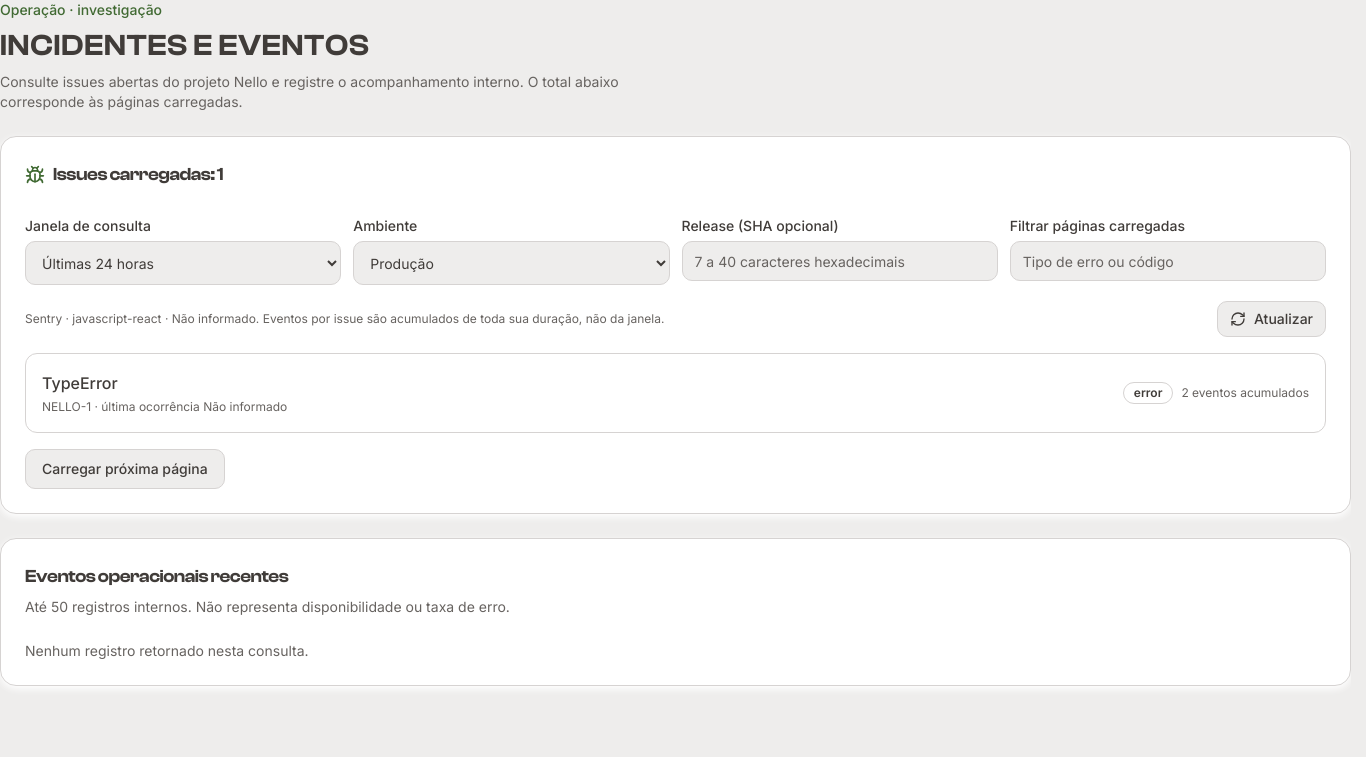
Test: AdminBugReportsPage › deduplicates overlapping pages and preserves them when the next source request fails
Click the button "Carregar próxima página": {"x": 125, "y": 469} [25,449,225,489]
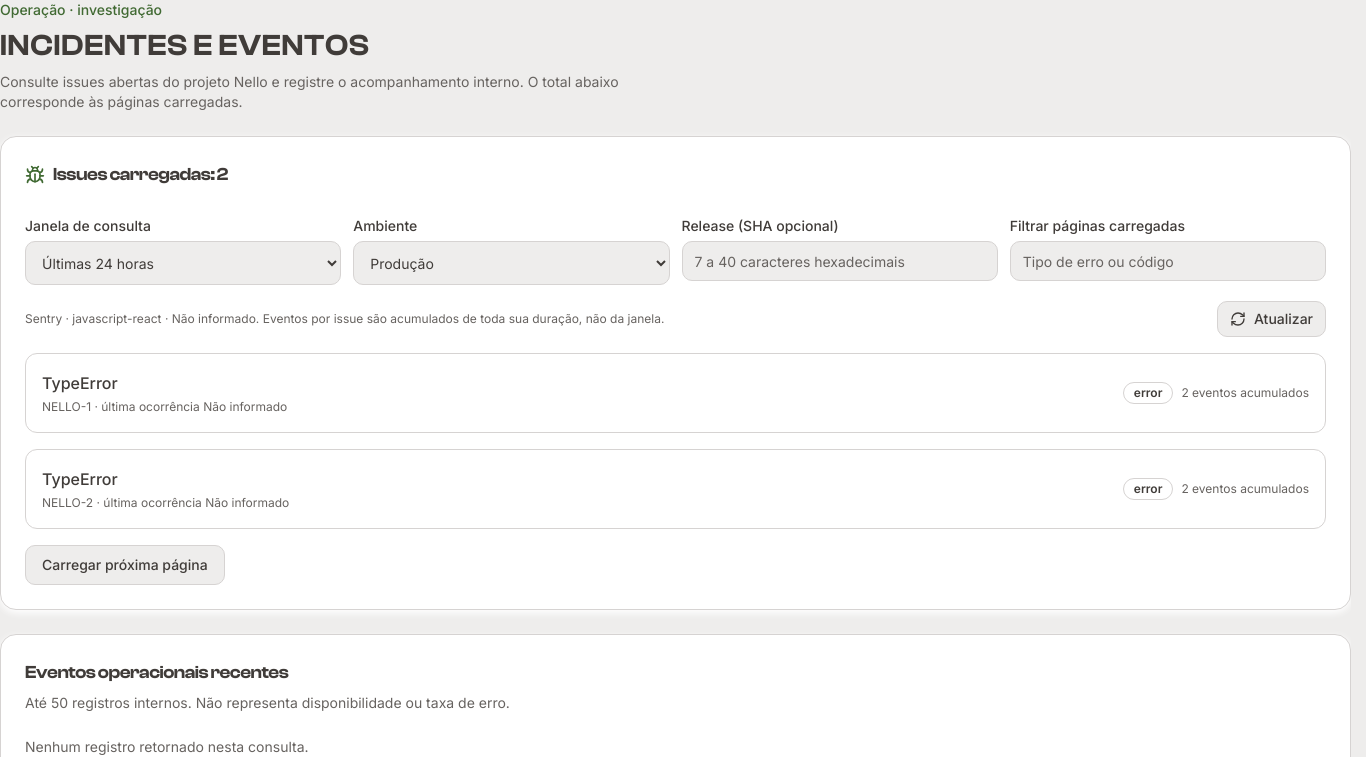
Result: the heading "Issues carregadas: 2" is shown at [25,164,228,185]
Click the button "Carregar próxima página": {"x": 125, "y": 565} [25,545,225,585]
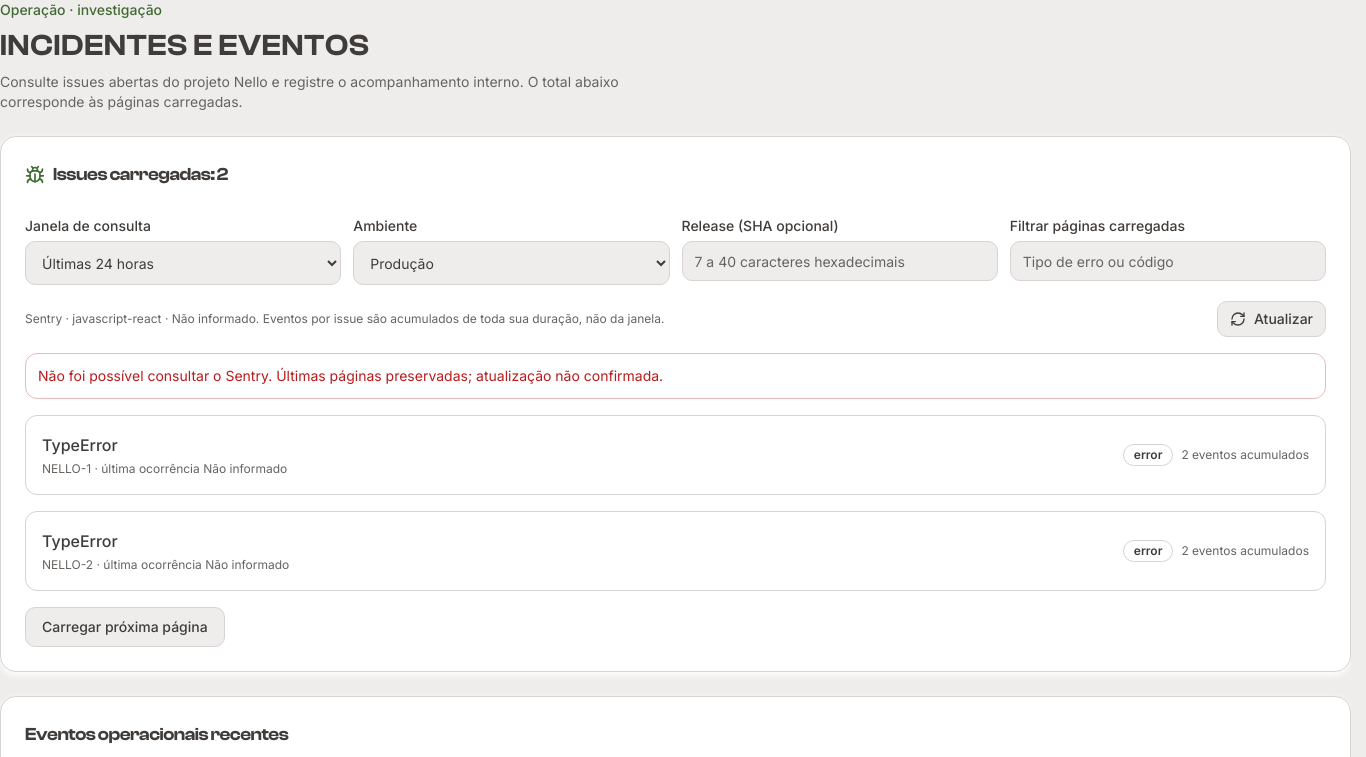
Result: the heading "Issues carregadas: 2" is shown at [25,164,228,185]
Result: the message shows "Últimas páginas preservadas" at [276,367,663,384]
